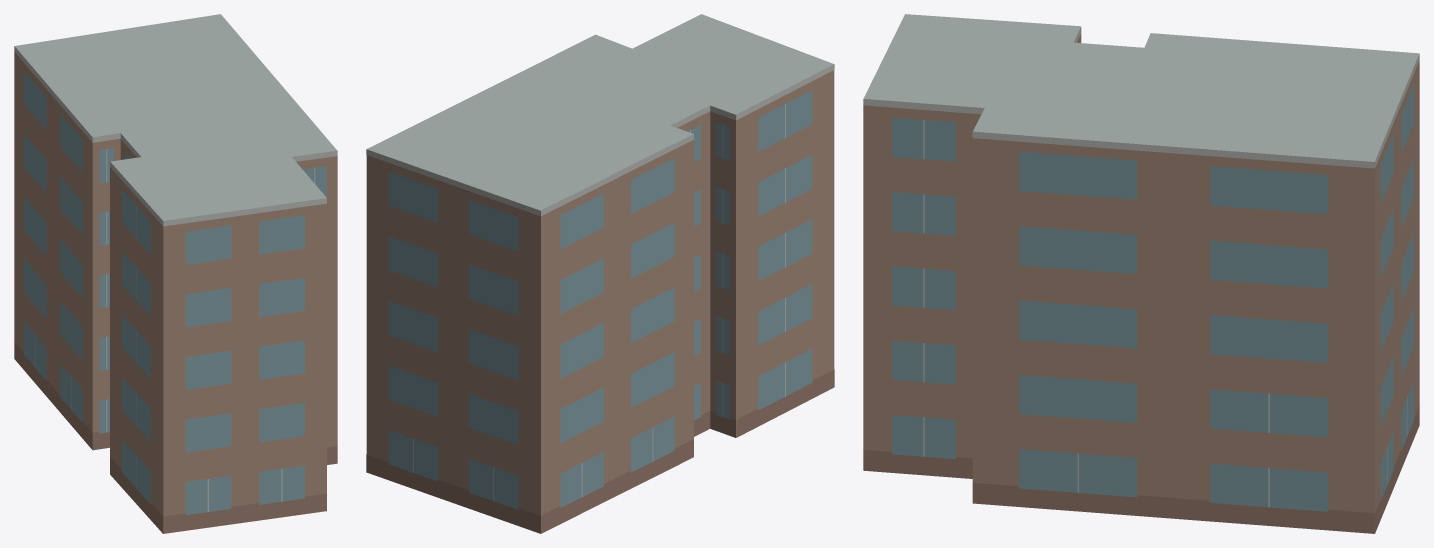
Rendered from survey-upis-33004400.glb.
The picture shows the model from 3 angles, left to right: view 1: azimuth 30°, elevation 25°; view 2: azimuth 150°, elevation 25°; view 3: azimuth 270°, elevation 25°; orthographic projection. The views are drawn at different scales.
Visible parts, largest first — view 1: survey-upis-33004400.tmp; view 2: survey-upis-33004400.tmp; view 3: survey-upis-33004400.tmp.
Part boxes in pixels (x1,y1,x2,y2): survey-upis-33004400.tmp: (14,14,337,533); survey-upis-33004400.tmp: (366,14,834,533); survey-upis-33004400.tmp: (863,14,1419,533).
Size of the model in its own units: 11.88 by 13.9 by 18.85.
